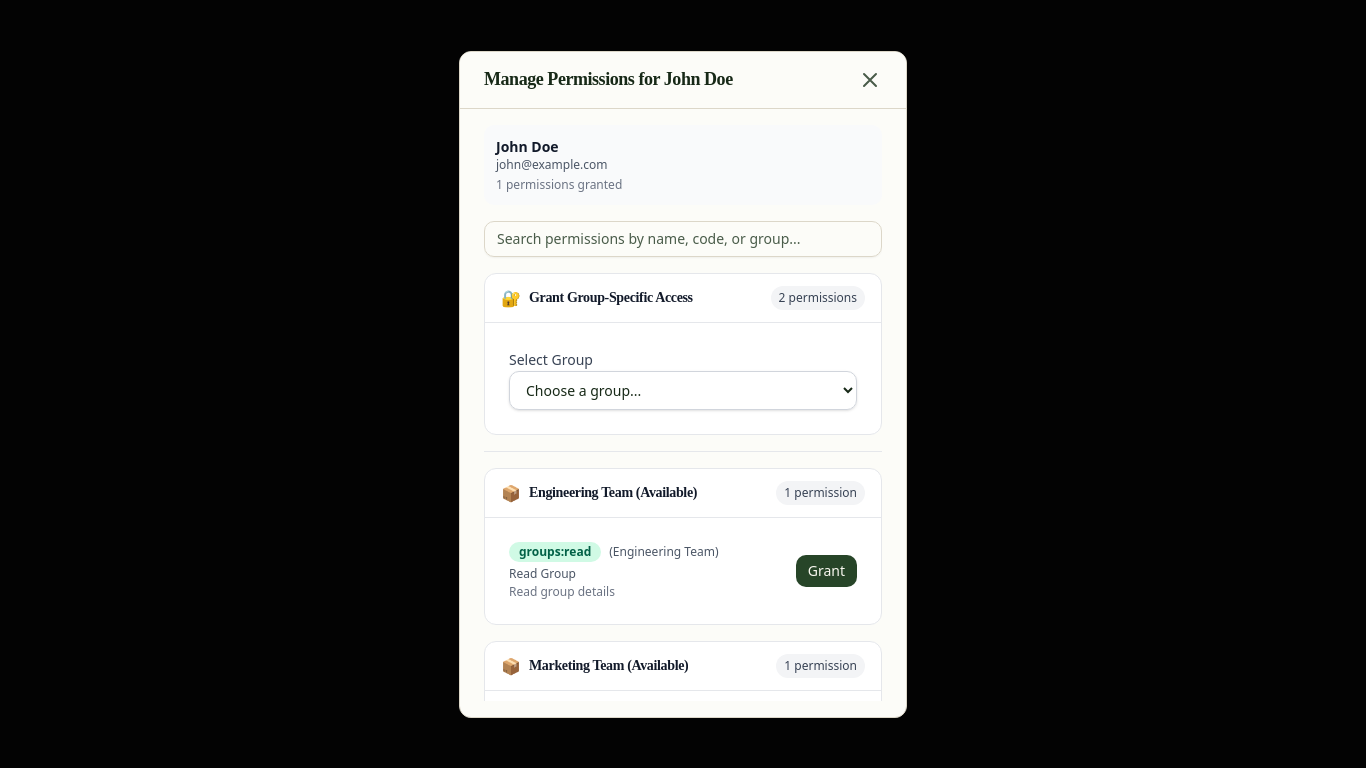
Test: PermissionManagerDialog › filters available grouped permissions by group name
# Search by group name
Type "Engineering" into the field with placeholder "Search permissions by name, code, or group..." at (683, 238), box [484, 220, 882, 256]
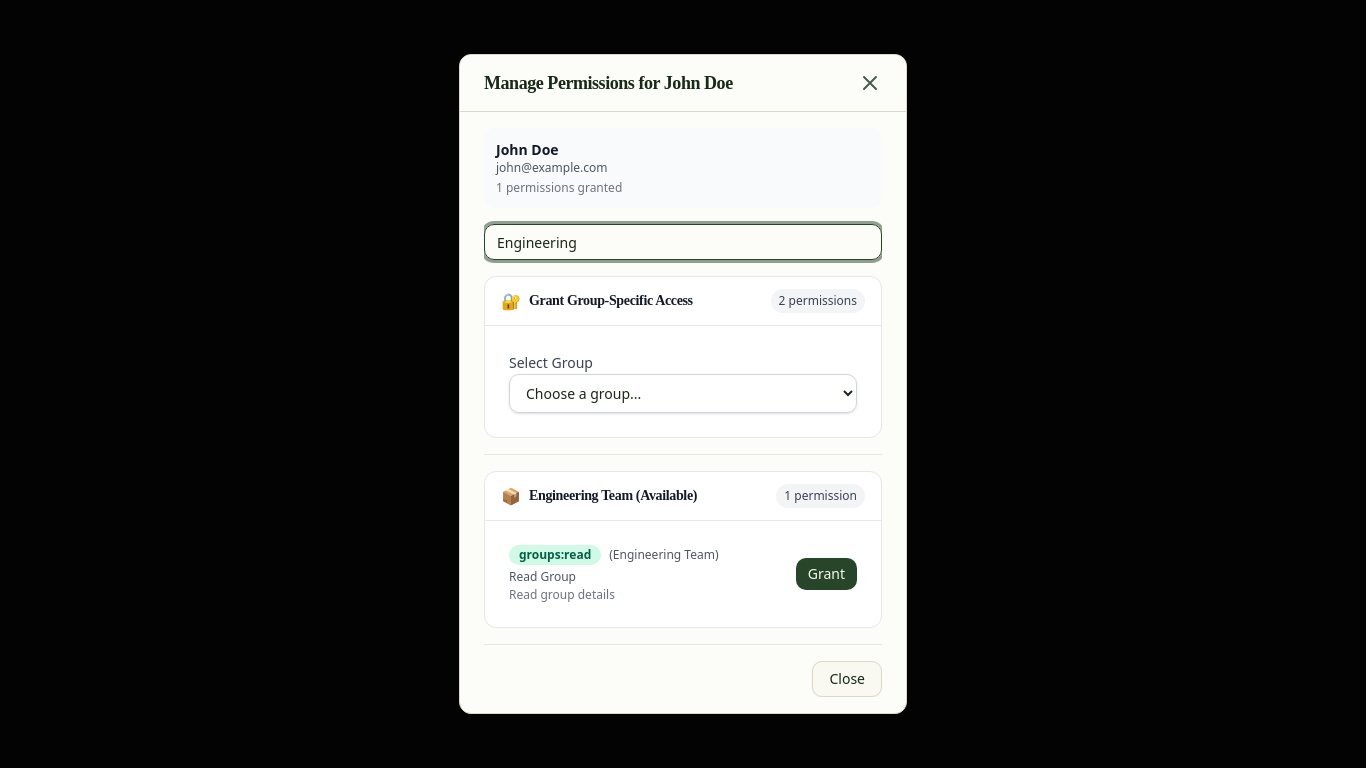
Expected: the heading "Engineering Team (Available)" is shown, [529, 487, 697, 505]
Expected: the heading "Marketing Team (Available)" is gone
